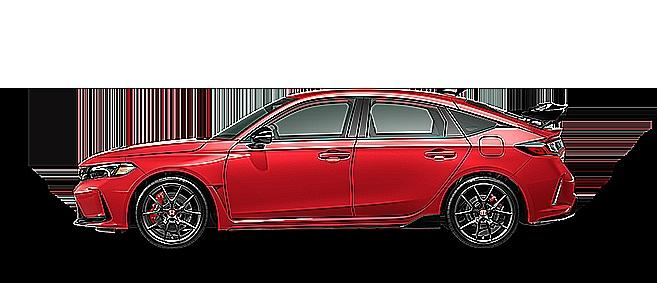Car hood: (94, 137, 210, 158)
Fender - -F-L-: (125, 137, 244, 222)
Fender - -R-L-: (434, 120, 531, 220)
Front bumper: (70, 168, 149, 238)
Headlight - -L-: (76, 159, 138, 184)
Passenger-s door - -F-L-: (225, 93, 352, 220)
Passenger-s door - -R-L-: (352, 93, 472, 221)
Rear bumper: (509, 156, 579, 230)
Rear light - -L-: (512, 133, 568, 162)
Side bumper - -L-: (214, 209, 445, 236)
Side mirror - -L-: (244, 121, 274, 154)
